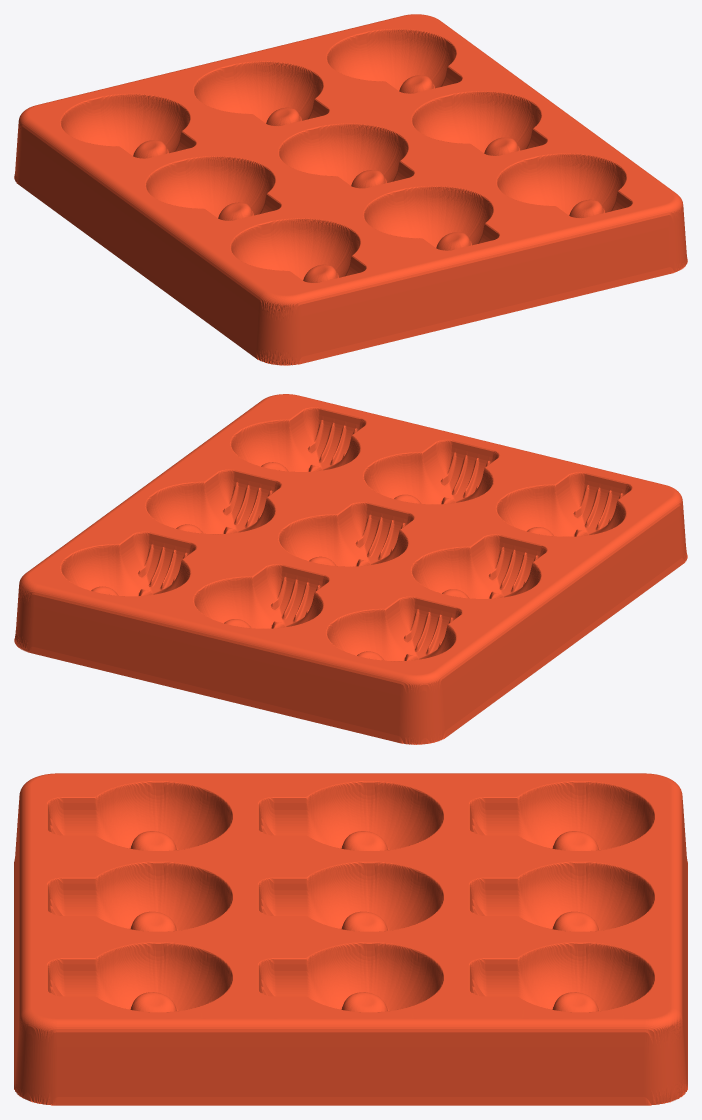
File: mold.glb
The picture shows the model from 3 angles, top to bottom: view 1: azimuth 30°, elevation 25°; view 2: azimuth 150°, elevation 25°; view 3: azimuth 270°, elevation 25°; orthographic projection. The views are drawn at different scales.
Visible parts, largest first — view 1: geometry_0; view 2: geometry_0; view 3: geometry_0.
Part boxes in pixels (left/top/right/bottom): geometry_0: left=14, top=14, right=687, bottom=365; geometry_0: left=14, top=394, right=687, bottom=744; geometry_0: left=14, top=773, right=687, bottom=1105.
Size of the model in its own units: 0.1274 by 0.0182 by 0.1402.
